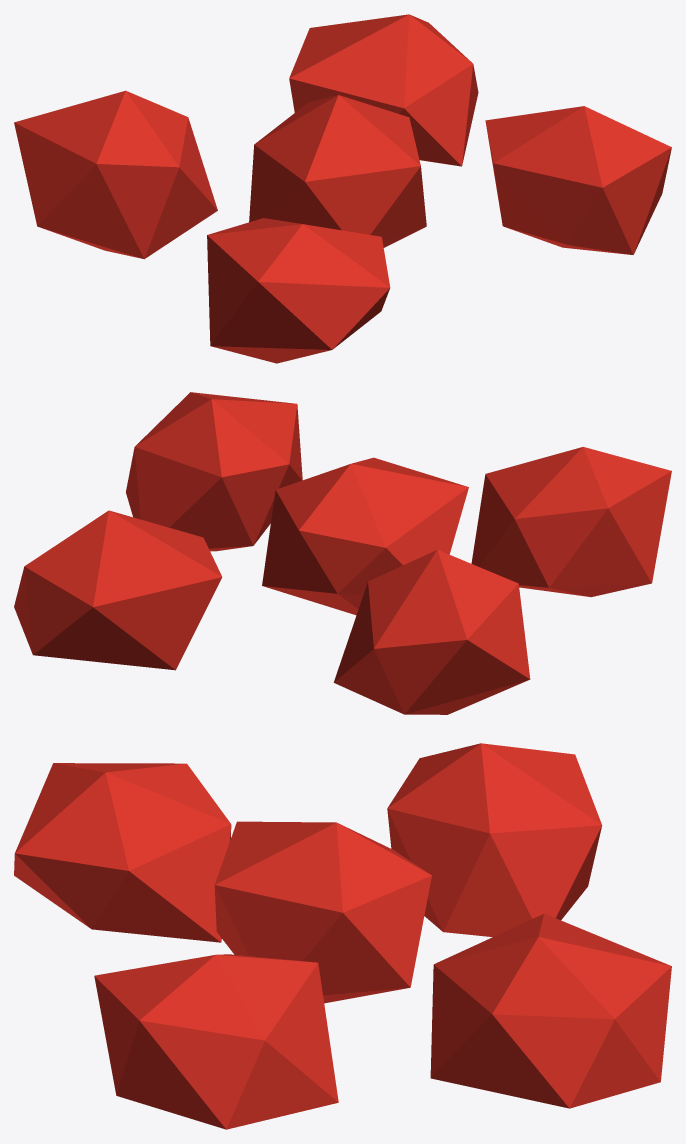
File: tomato_pieces.glb
3 views of the same model, one above another, from view 1: azimuth 30°, elevation 25°; view 2: azimuth 150°, elevation 25°; view 3: azimuth 270°, elevation 25° (orthographic). The views are drawn at different scales.
Parts seen in each view (by area): view 1: tomato_pieces_0, tomato_pieces_4, tomato_pieces_3, tomato_pieces_2, tomato_pieces_1; view 2: tomato_pieces_1, tomato_pieces_0, tomato_pieces_4, tomato_pieces_2, tomato_pieces_3; view 3: tomato_pieces_1, tomato_pieces_3, tomato_pieces_0, tomato_pieces_4, tomato_pieces_2.
Boxes of the visible parts, bbox=[...] form: tomato_pieces_0: bbox=[14, 90, 217, 259]; tomato_pieces_4: bbox=[207, 218, 390, 363]; tomato_pieces_3: bbox=[485, 106, 671, 254]; tomato_pieces_2: bbox=[249, 95, 426, 247]; tomato_pieces_1: bbox=[289, 14, 478, 166]; tomato_pieces_1: bbox=[14, 510, 222, 670]; tomato_pieces_0: bbox=[333, 549, 530, 714]; tomato_pieces_4: bbox=[471, 447, 671, 597]; tomato_pieces_2: bbox=[262, 457, 468, 615]; tomato_pieces_3: bbox=[126, 392, 302, 551]; tomato_pieces_1: bbox=[430, 913, 671, 1108]; tomato_pieces_3: bbox=[94, 954, 338, 1129]; tomato_pieces_0: bbox=[387, 743, 602, 936]; tomato_pieces_4: bbox=[14, 763, 231, 942]; tomato_pieces_2: bbox=[214, 821, 431, 1003].
Bounding box in the file's own units: 0.245 × 0.0745 × 0.2335.
